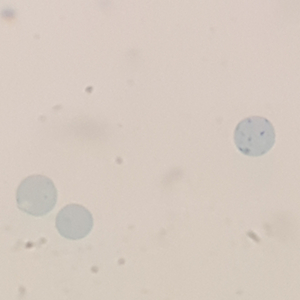aggregate reticulocyte: (232, 115, 277, 159)
erythrocyte: (53, 202, 96, 241)
punctate reticulocyte: (14, 173, 60, 218)
